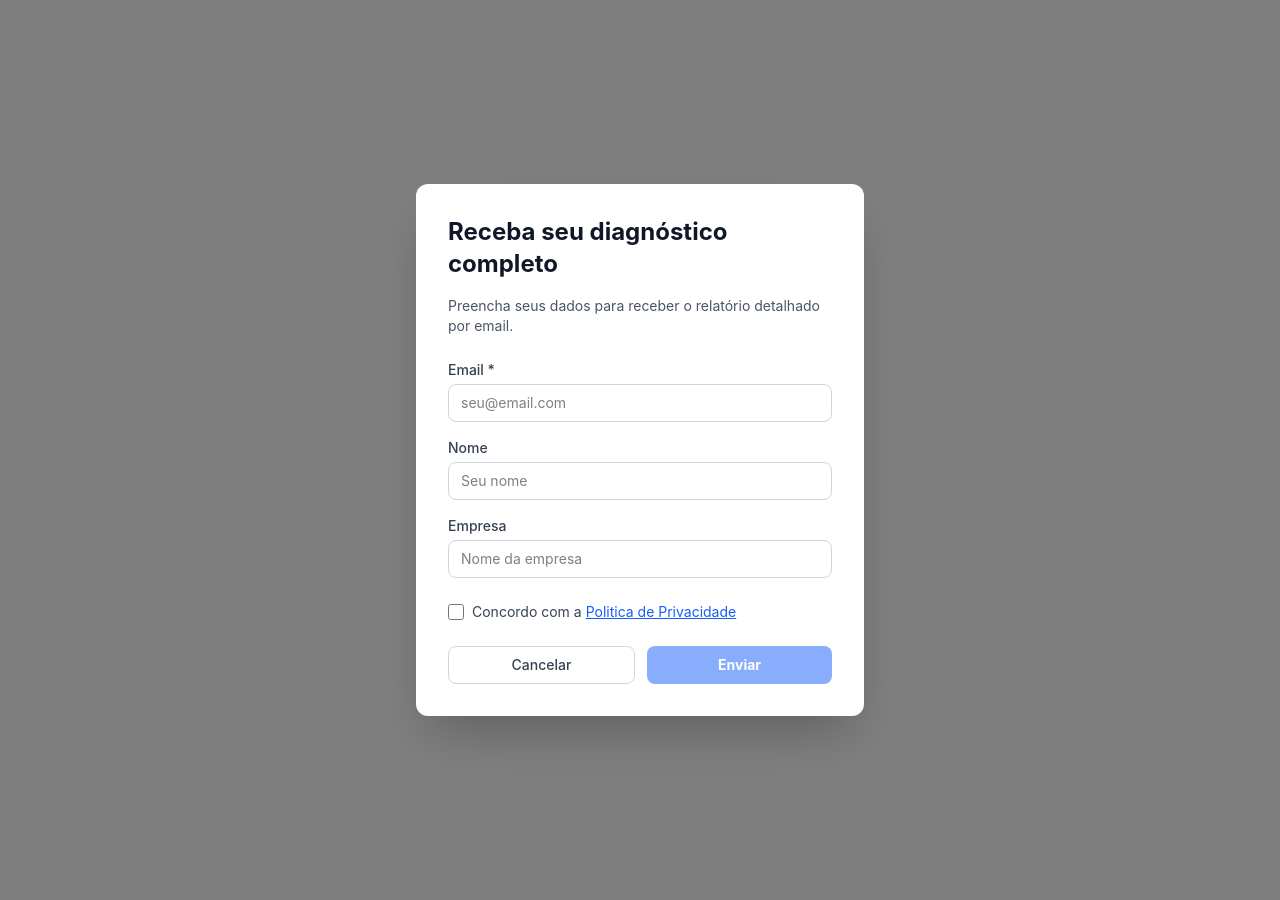
Test: LeadCaptureModal — validation › shows error for invalid email format
This screenshot has width=1280, height=900.
Step 1. Click the checkbox → (456, 612), box [448,604,464,620]
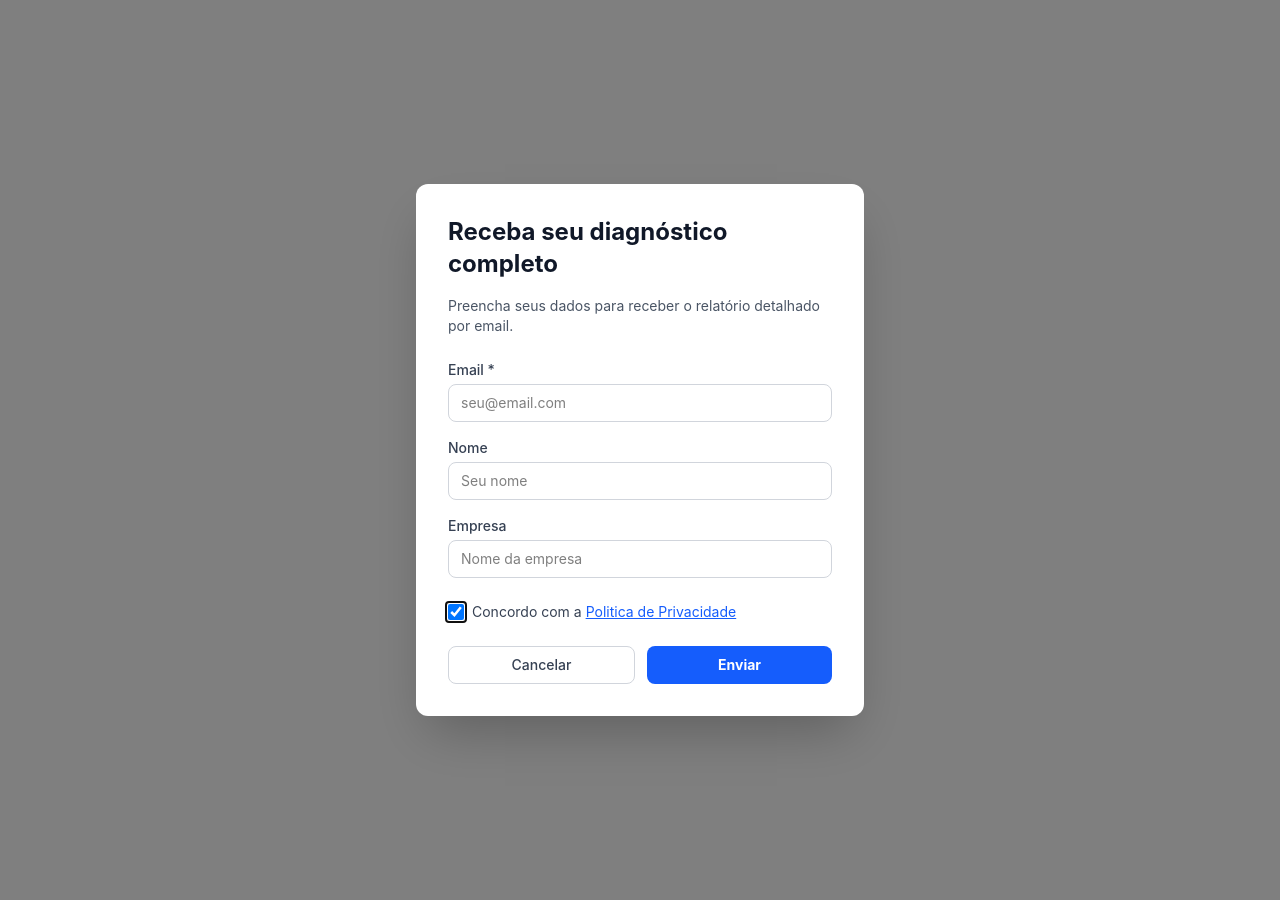
Step 2. Type "not-an-email" into the field labelled "Email *" → (640, 403), box [448,384,832,422]
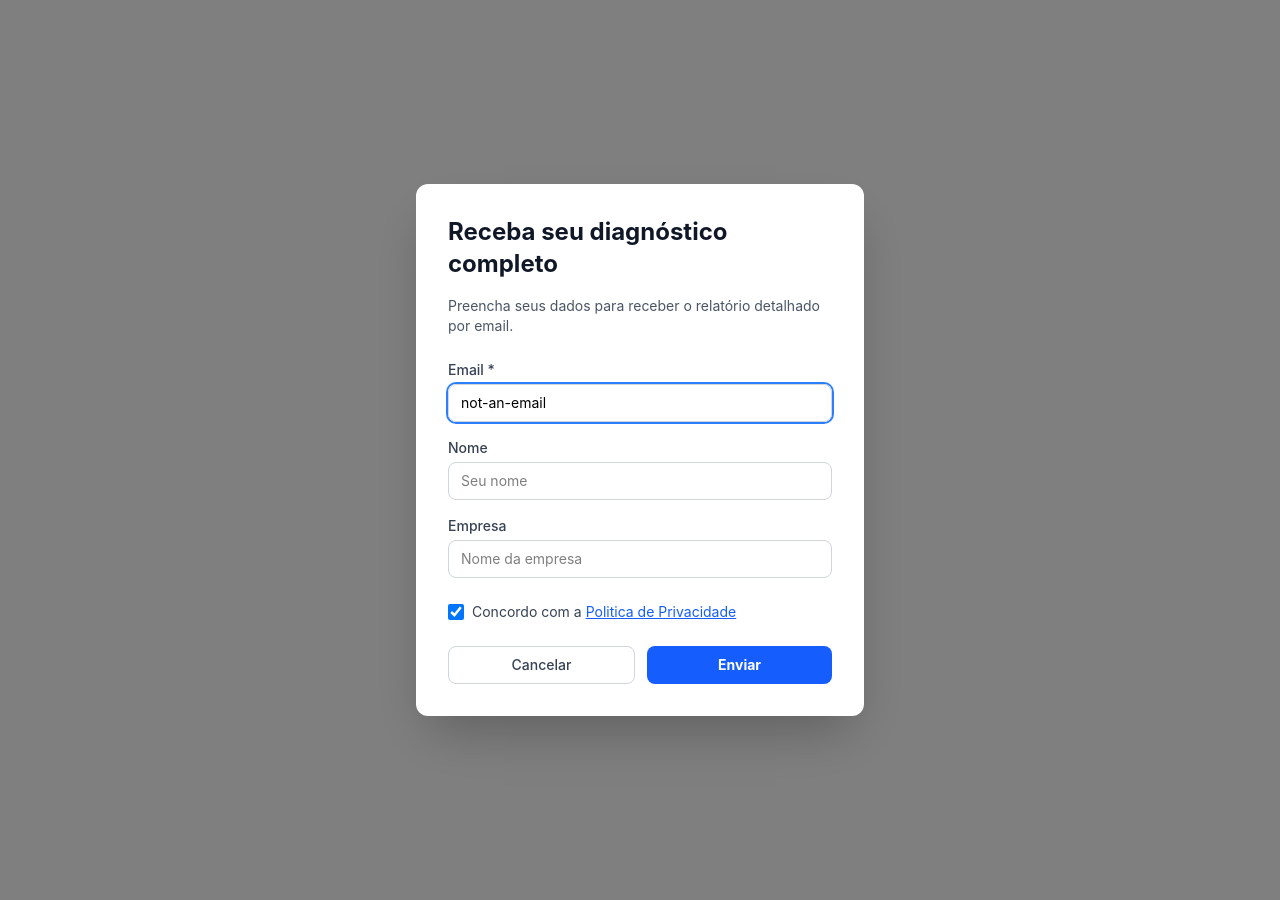
Step 3. Click the button "Enviar" → (740, 665), box [647,646,832,684]
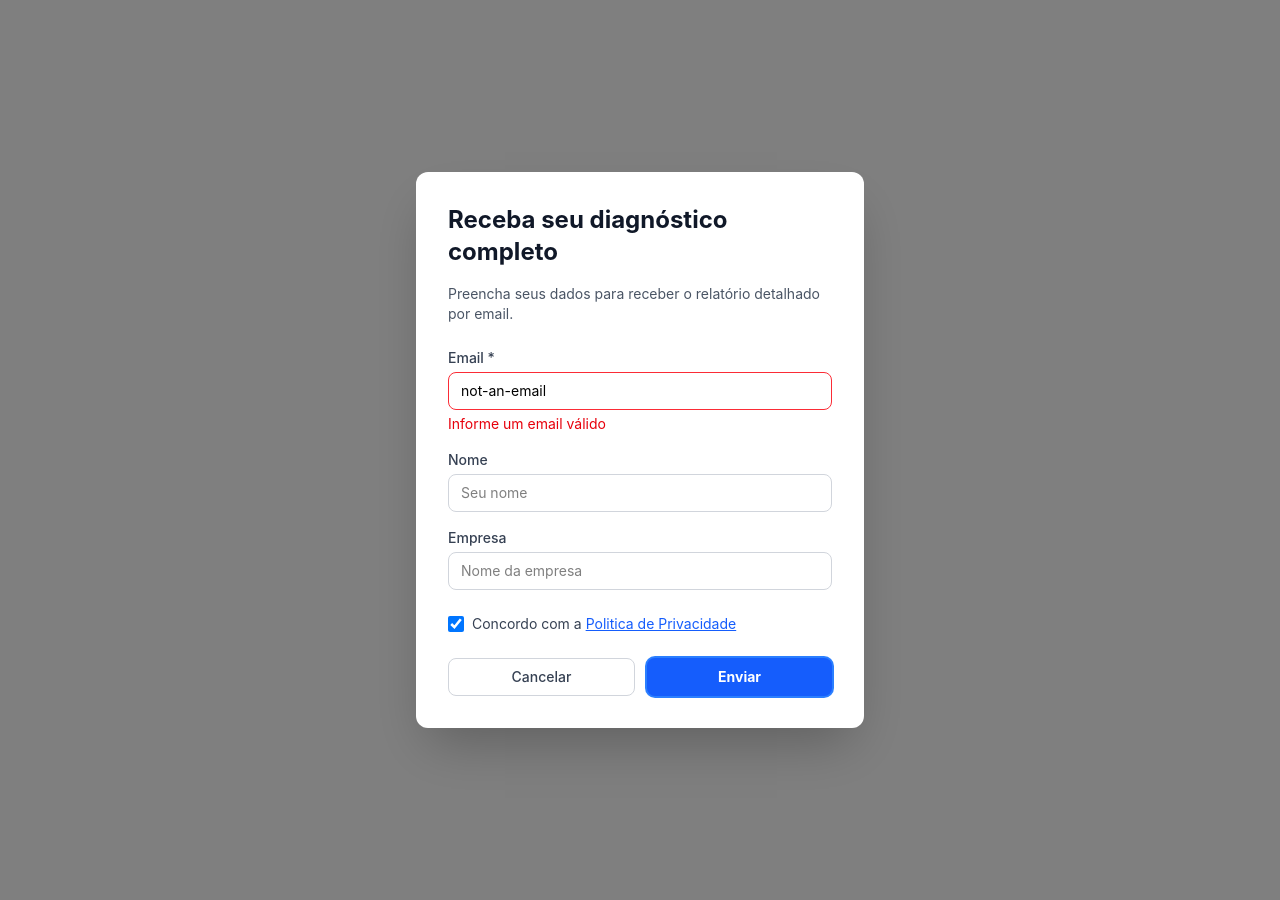
Expected: the text "Informe um email válido" is shown, [448,415,606,432]
